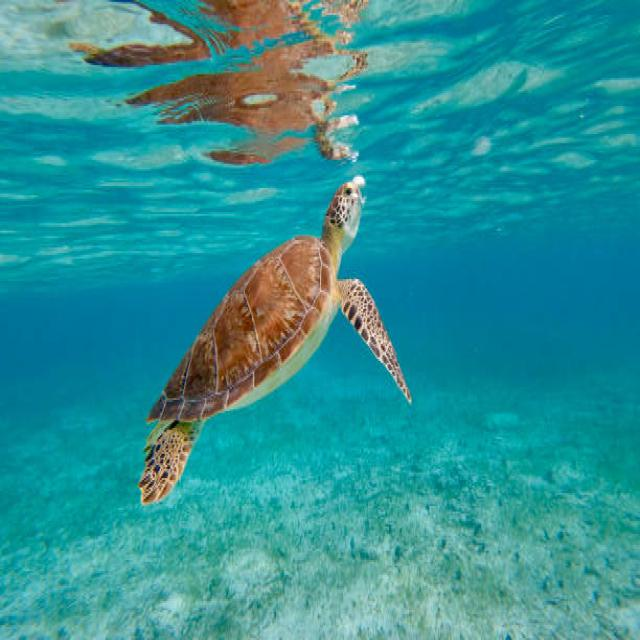sea turtle: (144, 233, 336, 397), (341, 273, 426, 436), (308, 165, 378, 263), (140, 418, 196, 519), (130, 403, 169, 463)
